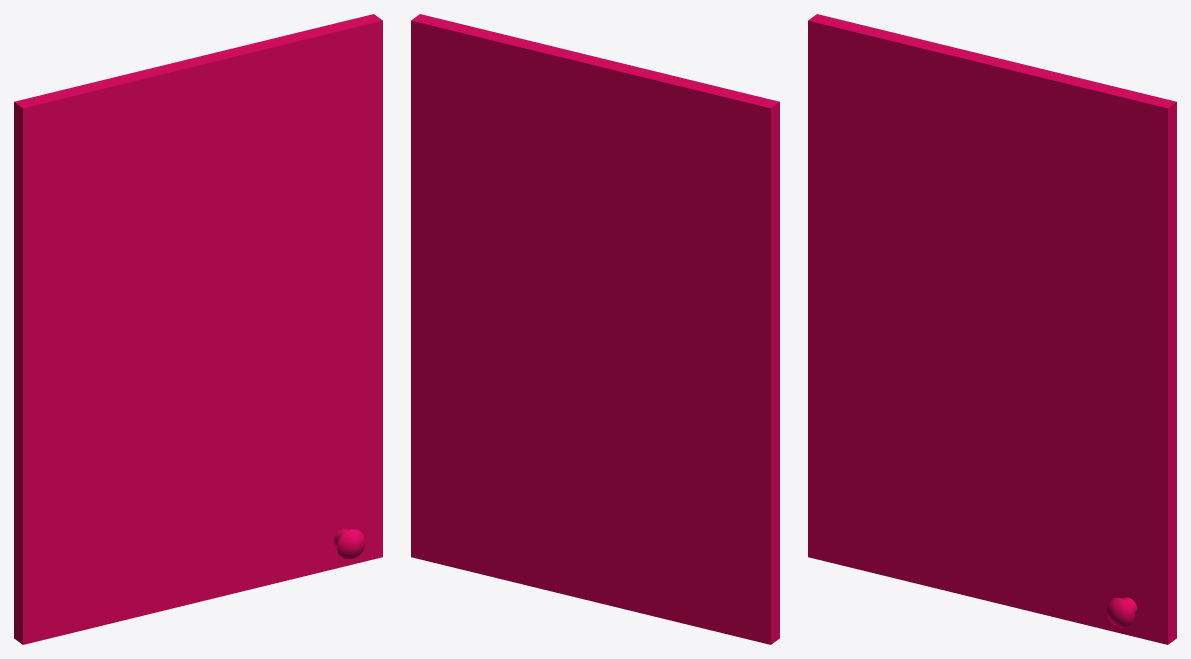
The model's file is Glass_Cupboard_Door_02.fbx.
3 views of the same model, side by side, from view 1: azimuth 30°, elevation 25°; view 2: azimuth 150°, elevation 25°; view 3: azimuth 330°, elevation 25° (orthographic).
Visible parts, largest first — view 1: Glass_Cupboard_Door_02; view 2: Glass_Cupboard_Door_02; view 3: Glass_Cupboard_Door_02.
Boxes of the visible parts, left/top/right/bottom form: Glass_Cupboard_Door_02: left=14, top=14, right=382, bottom=644; Glass_Cupboard_Door_02: left=411, top=14, right=779, bottom=644; Glass_Cupboard_Door_02: left=808, top=14, right=1176, bottom=644.
Size of the model in its own units: 48.52 by 69.14 by 5.04.
